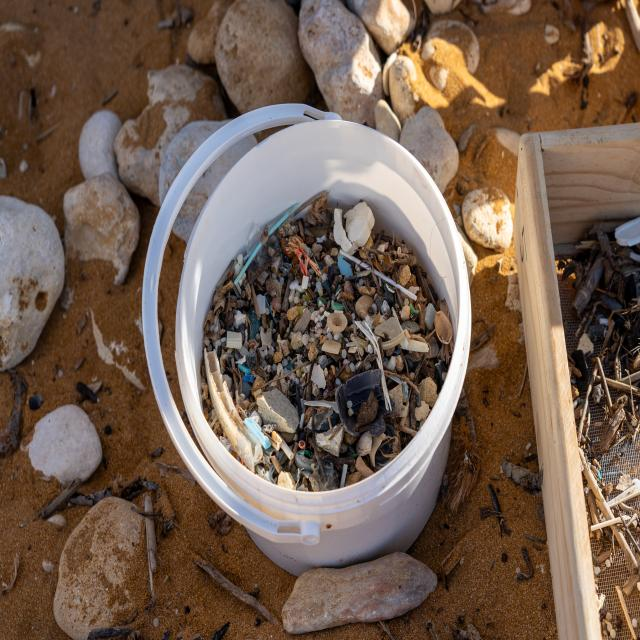Other litter: (287, 235, 324, 277), (587, 402, 589, 408)
Other plastic: (203, 349, 263, 473), (334, 363, 402, 437), (606, 479, 640, 508), (246, 414, 272, 448), (614, 216, 640, 247), (263, 291, 281, 327), (337, 255, 354, 277), (238, 377, 251, 398), (243, 374, 264, 382), (239, 362, 252, 374), (332, 300, 344, 313), (410, 303, 420, 316), (597, 469, 601, 480), (581, 400, 585, 407)
Straw: (233, 202, 299, 287), (340, 248, 418, 302), (591, 514, 631, 531)
Unlabeled litter: (571, 349, 591, 393)
